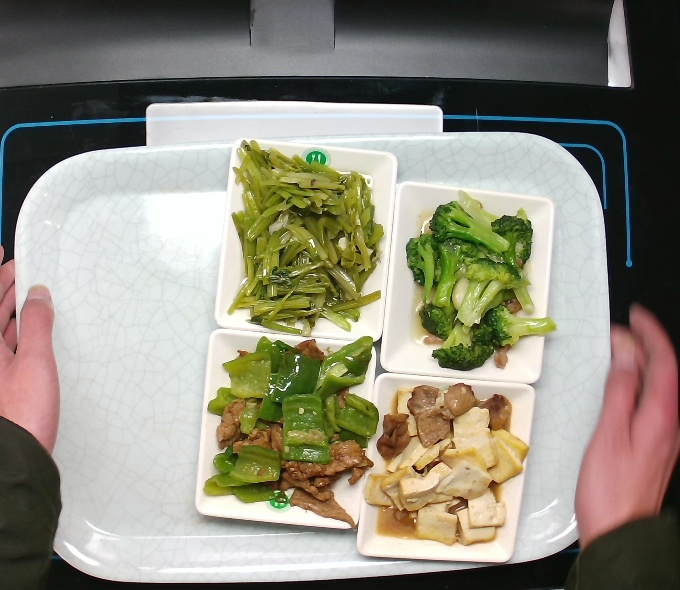wcq-DouFuRouPian: (363, 372, 529, 548)
wcq-QinCai: (215, 128, 398, 340)
wcq-QingJiaoChaoRou: (204, 341, 371, 523)
wcq-XiLanHua: (403, 188, 562, 375)
